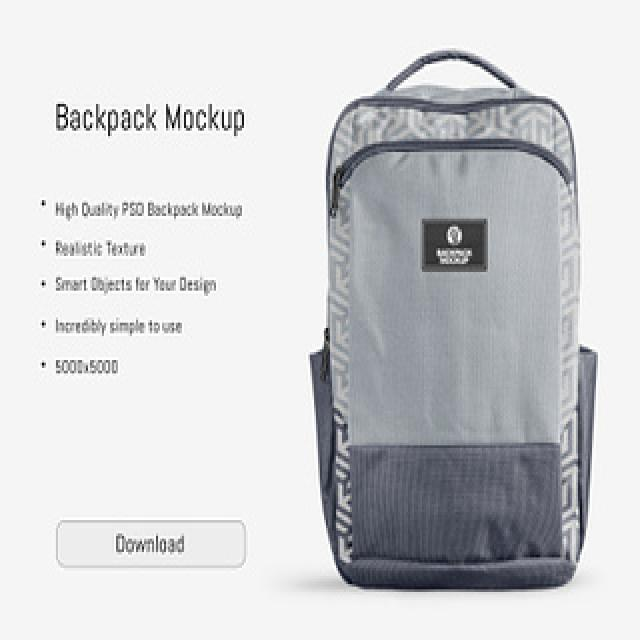backpack: (309, 47, 599, 591)
